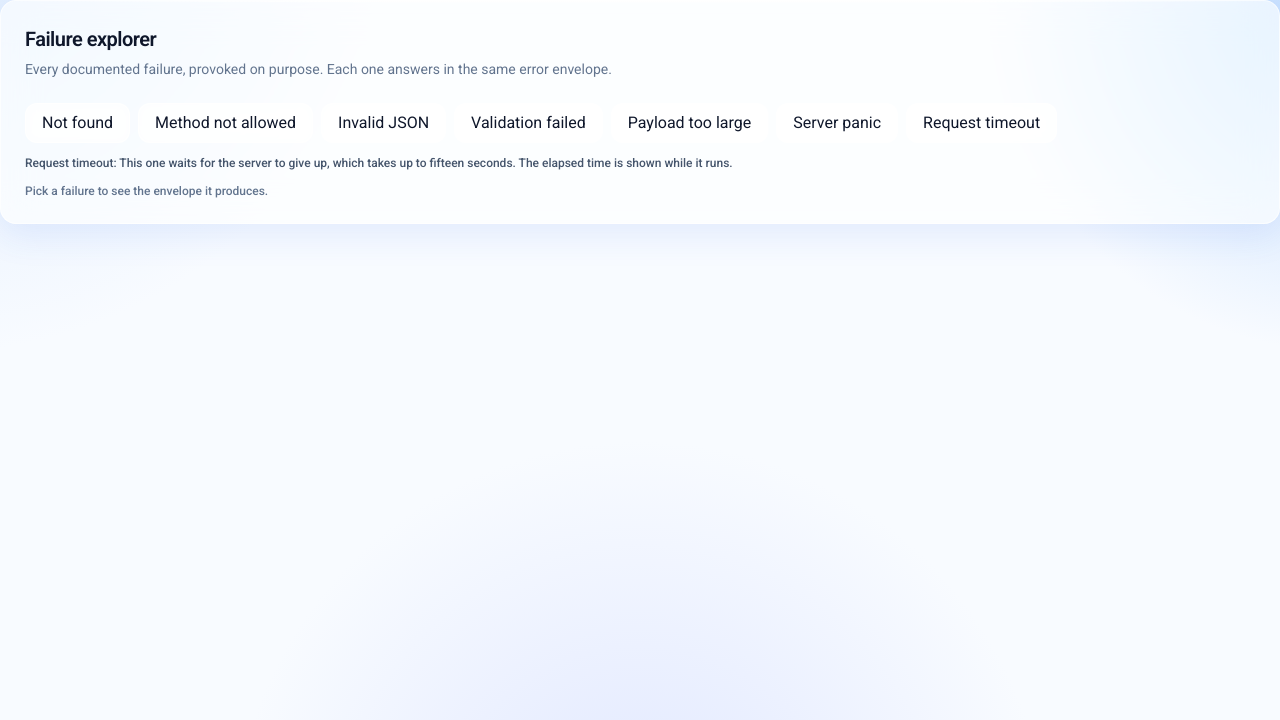
Test: FailureExplorerPanel › shows the envelope and the raw body for a 405
Click the button "Method not allowed" at (226, 123), box top-left (138, 103), bottom-right (313, 143)
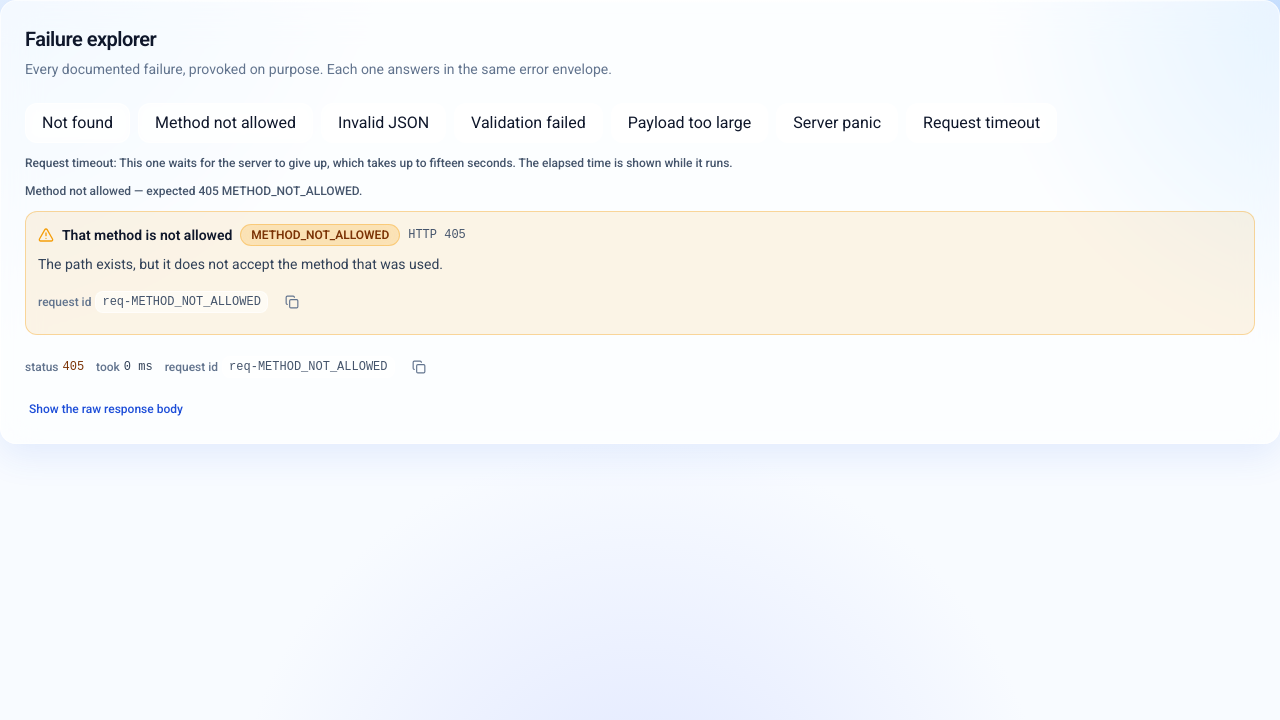
Check: the text "METHOD_NOT_ALLOWED" is shown, box top-left (240, 224), bottom-right (400, 246)
Check: the text "405" is shown, box top-left (62, 359), bottom-right (84, 375)
Check: the heading "Show the raw response body" is shown, box top-left (29, 402), bottom-right (183, 416)
